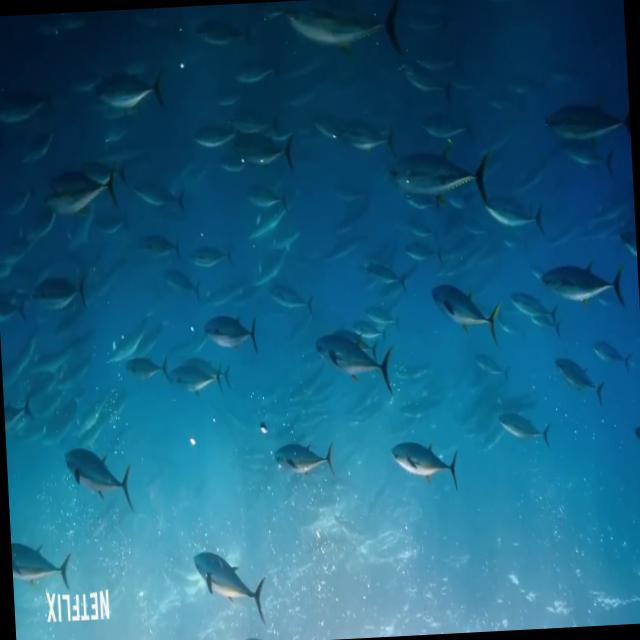fish: (182, 534, 280, 624), (286, 0, 410, 71), (379, 148, 503, 210), (54, 446, 148, 522), (308, 326, 397, 406), (542, 86, 632, 156), (388, 432, 468, 510), (538, 250, 630, 316), (429, 276, 503, 357), (11, 521, 82, 604), (121, 166, 196, 228), (272, 428, 340, 493), (41, 169, 122, 223), (96, 70, 167, 131), (549, 345, 610, 414), (491, 394, 558, 456), (194, 306, 266, 357), (587, 323, 640, 387), (230, 134, 296, 184), (340, 112, 404, 162), (484, 192, 548, 236), (34, 274, 92, 322), (174, 362, 236, 406), (126, 345, 174, 401), (0, 89, 46, 135), (166, 259, 210, 307), (196, 124, 234, 174), (131, 229, 179, 267), (186, 235, 239, 269), (4, 394, 34, 451), (0, 294, 32, 336), (314, 110, 342, 152)
